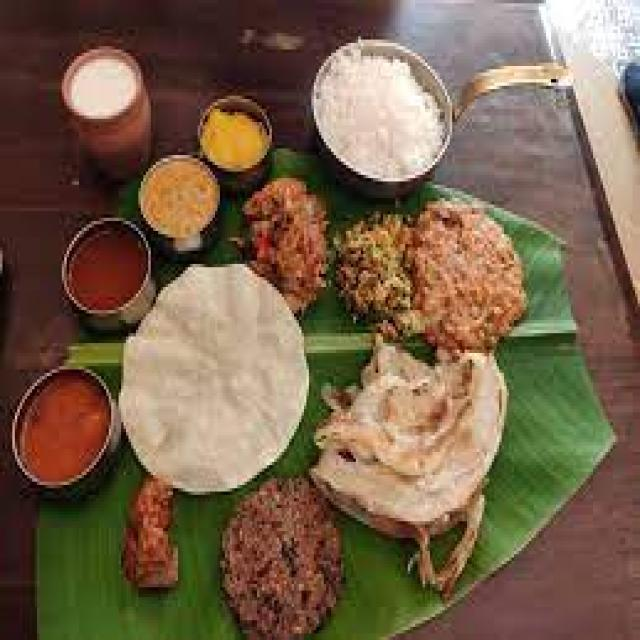papad: (117, 256, 315, 487)
pickle: (123, 490, 179, 586)
roti: (327, 191, 530, 359)
sambar-rasam: (69, 227, 147, 310)
veg-fry: (309, 36, 455, 195)
